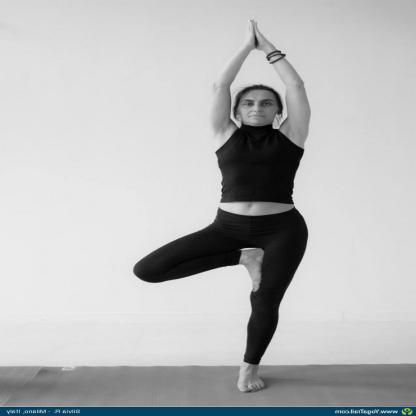tree: (127, 13, 324, 399)
